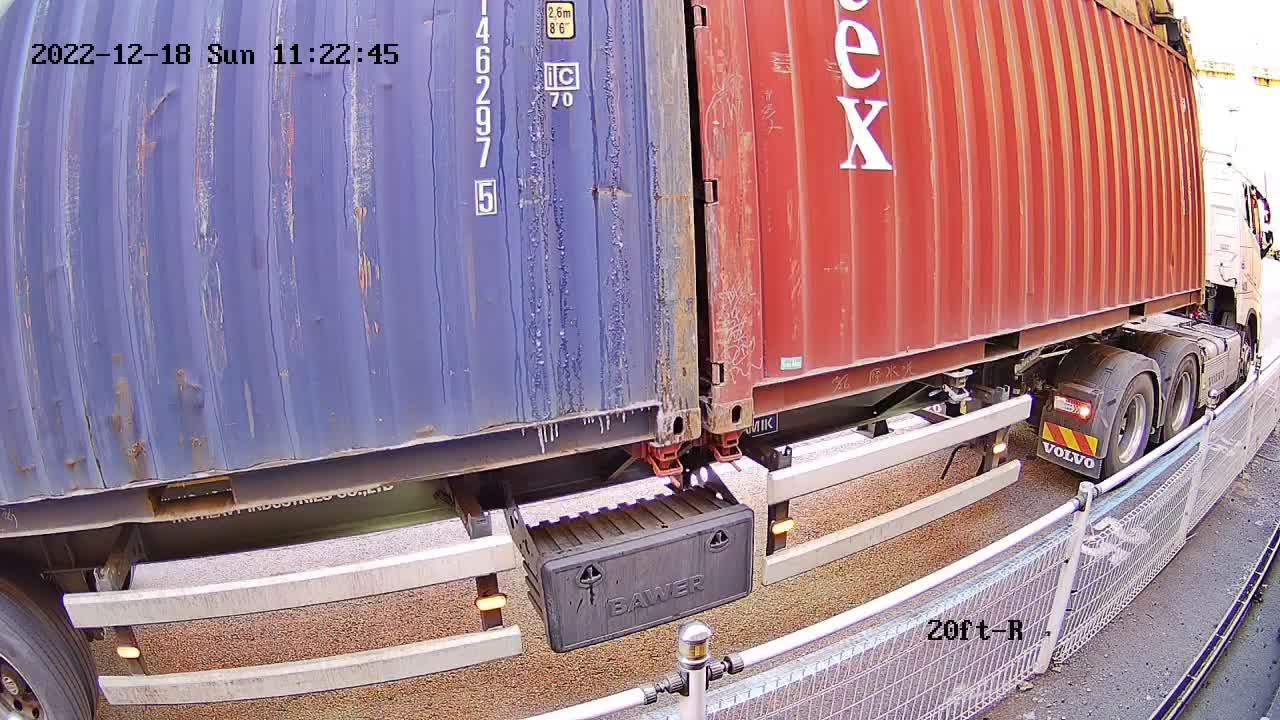Cone: (644, 440, 689, 486), (711, 426, 751, 475)
Hole_L: (713, 355, 783, 433)
Hole_R: (618, 369, 699, 443)
Tire: (1112, 375, 1157, 478), (1164, 358, 1199, 444)
